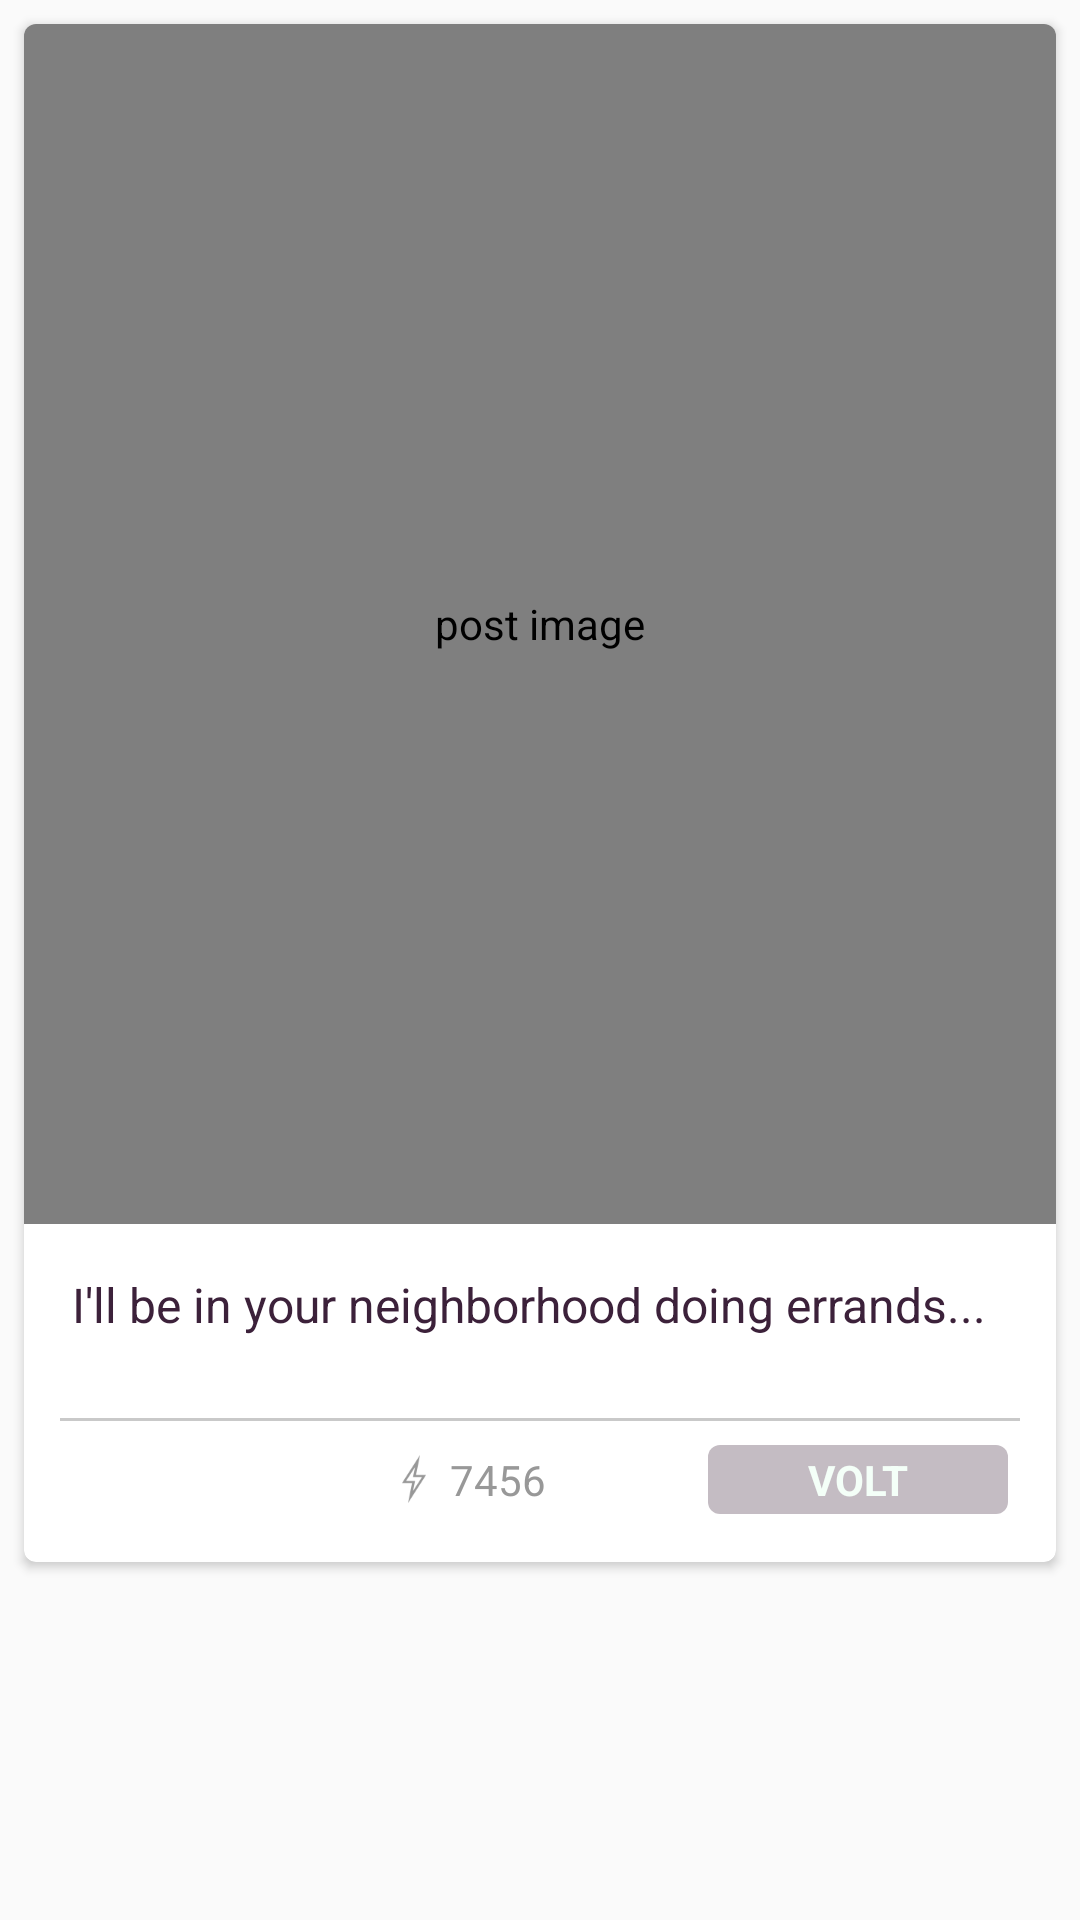

Icon click points for this 1080w x 1920h phone screenshot, format (x=x, y=y):
volt: (x=414, y=1479)
